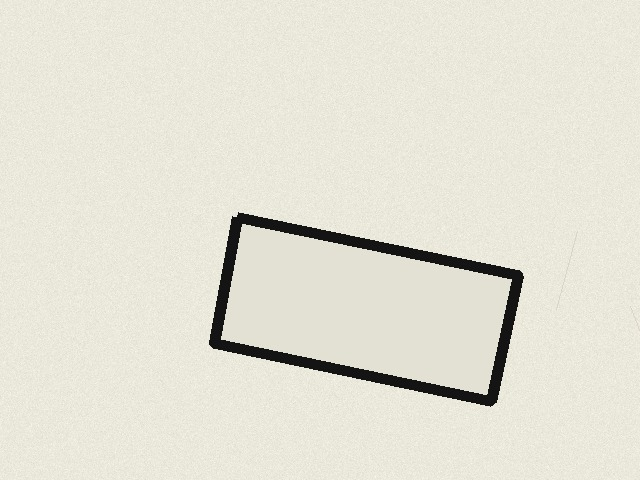parking_area: (214, 217, 518, 401)
